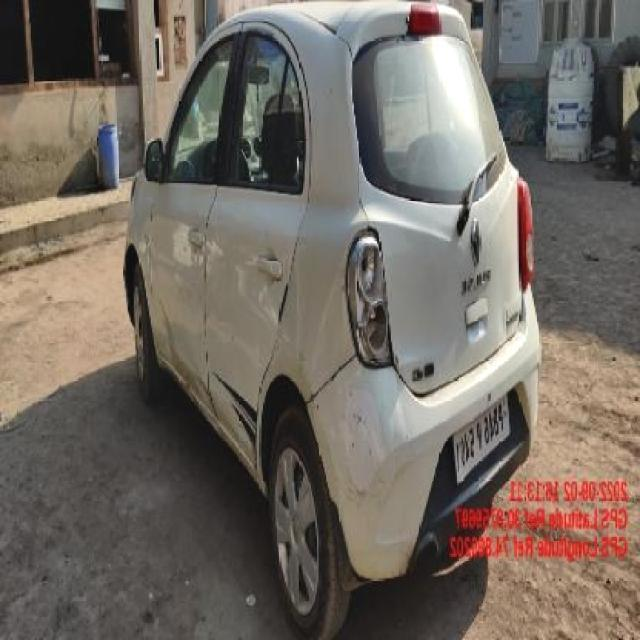minor: (243, 286, 283, 366), (342, 405, 365, 454), (345, 482, 365, 509)
moderate: (205, 380, 254, 482)
